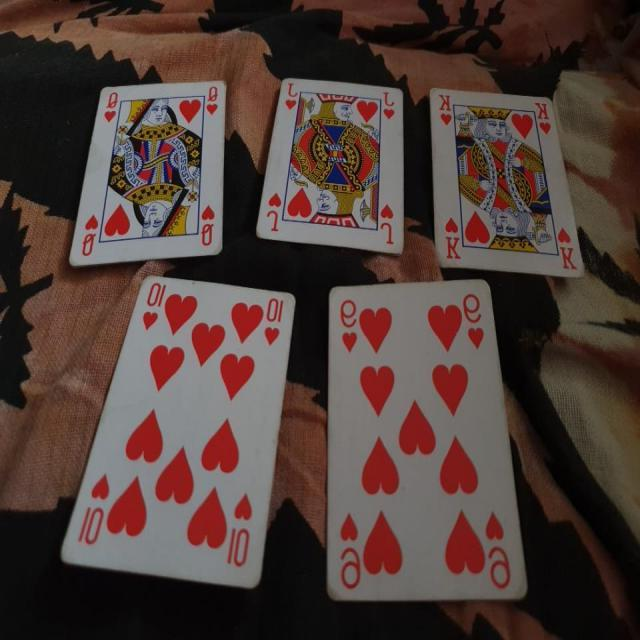10 of hearts: (55, 273, 297, 592)
9 of hearts: (314, 268, 540, 612)
jack of hearts: (255, 74, 412, 260)
king of hearts: (426, 84, 594, 278)
queen of hearts: (66, 65, 236, 278)
